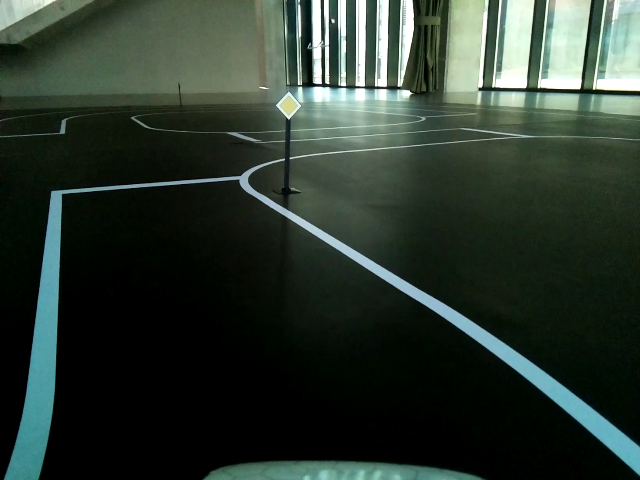priority: (277, 93, 301, 120)
